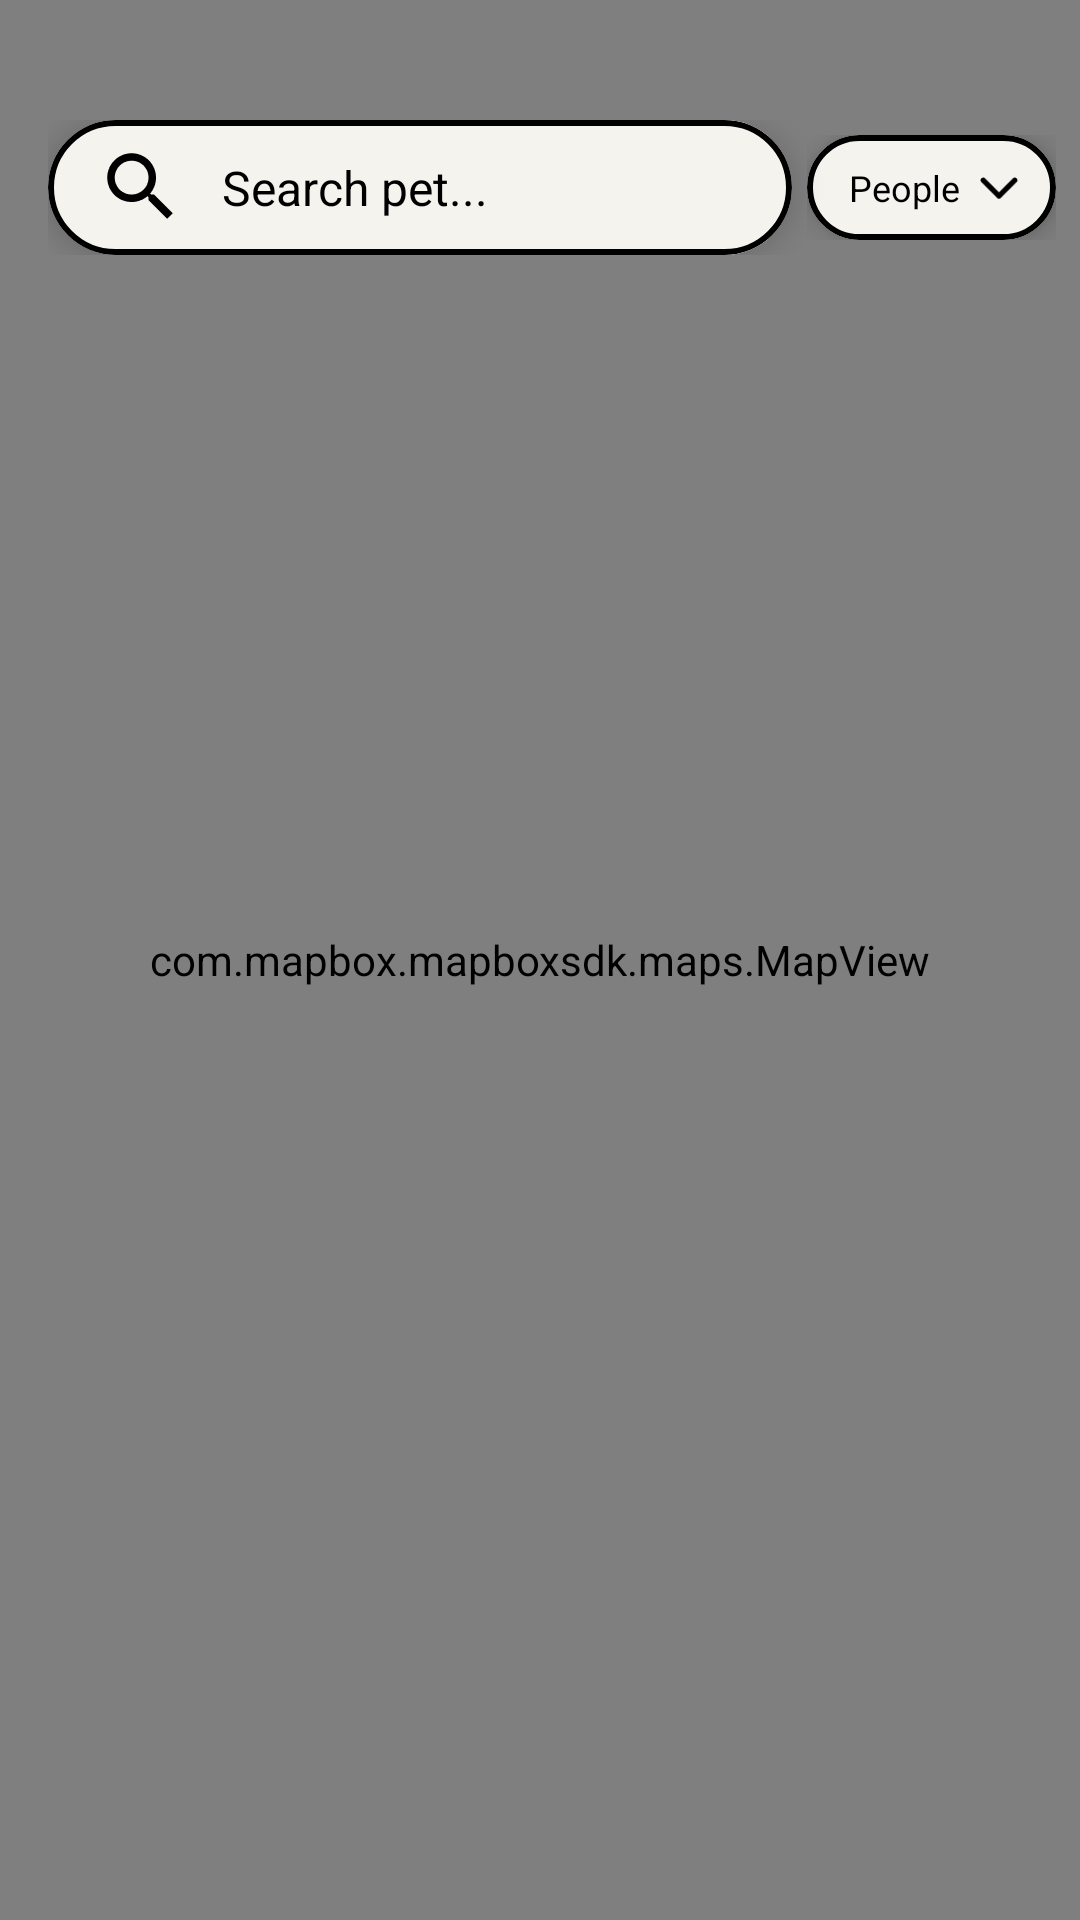

Named icons in this screenshot (1080 × 1920) and their centers, (x,y):
Dropdown arrow: (999,188)
